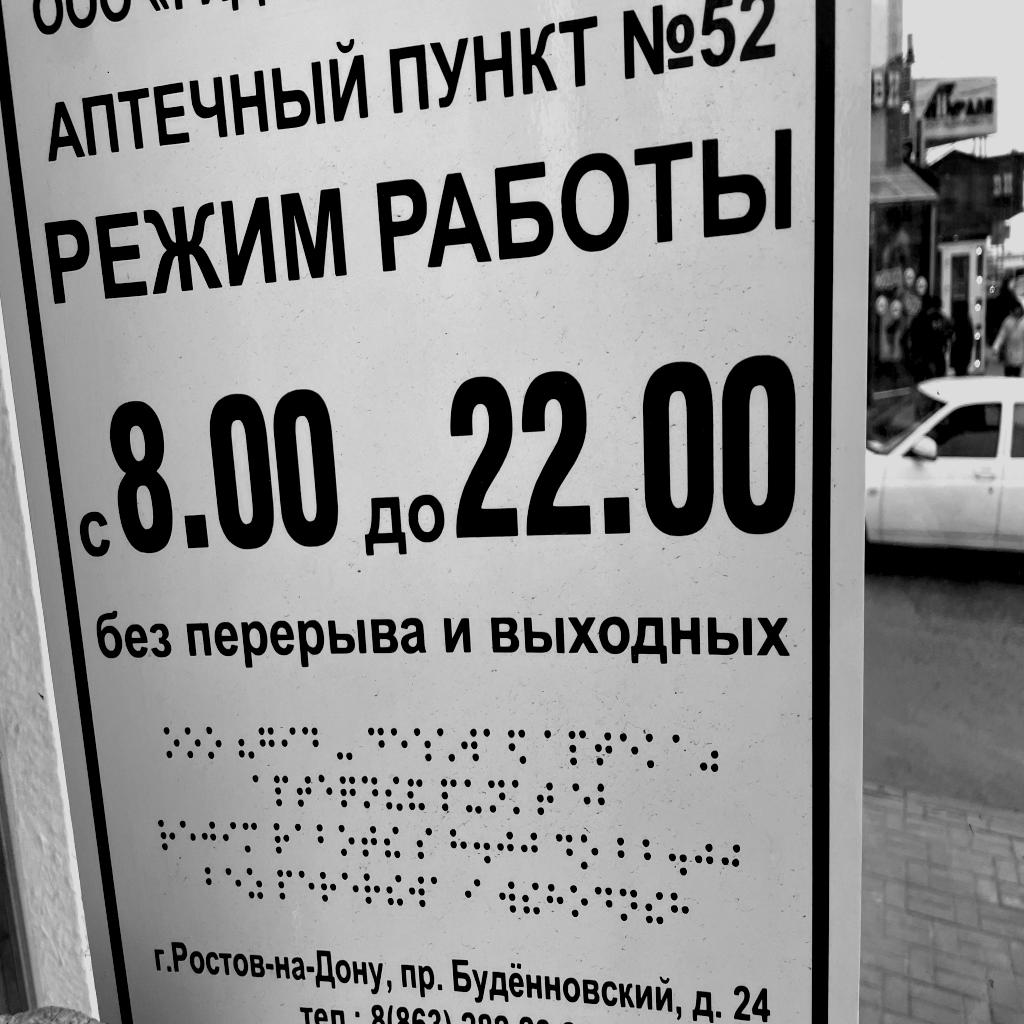_n: (618, 887, 638, 922), (487, 780, 506, 814), (361, 775, 379, 809)
_y: (464, 777, 482, 814)
a: (672, 734, 691, 770), (483, 728, 501, 762), (543, 729, 560, 764), (430, 875, 448, 908), (294, 822, 310, 856), (253, 774, 269, 806)
b: (315, 823, 332, 857), (204, 864, 220, 898)
ch: (339, 775, 356, 809)
d: (594, 886, 614, 919), (556, 832, 574, 867), (368, 726, 386, 760), (302, 726, 319, 758)
defis: (336, 729, 353, 761)
e: (619, 732, 639, 768), (390, 726, 409, 761), (341, 871, 359, 906), (298, 868, 315, 903), (225, 865, 242, 899), (180, 819, 196, 854), (318, 774, 334, 807)
g: (258, 727, 275, 759)
gh: (201, 820, 217, 852)
i: (464, 878, 482, 914), (280, 726, 297, 758), (222, 821, 237, 853)
iKratkoe: (407, 778, 425, 811)
ii: (643, 891, 665, 925), (385, 777, 404, 811), (522, 882, 541, 915), (386, 873, 404, 907), (384, 826, 401, 860)
k: (644, 733, 664, 769), (511, 780, 529, 816)
kavichki1: (238, 727, 254, 760)
kavichki2: (699, 737, 719, 774)
m: (242, 822, 258, 854)
o: (580, 834, 600, 870), (570, 885, 589, 919), (338, 824, 355, 858), (163, 726, 180, 759), (185, 726, 202, 759), (206, 726, 222, 760)
p: (568, 730, 588, 767), (441, 778, 459, 812), (273, 775, 290, 808), (276, 869, 293, 900)
r: (157, 819, 176, 852), (363, 871, 381, 905), (319, 870, 337, 902), (273, 822, 290, 855)
s: (416, 827, 434, 860)
sh: (414, 728, 432, 763)
t: (536, 781, 555, 815), (595, 732, 613, 766), (296, 774, 313, 808), (361, 825, 379, 857)
tochka: (668, 841, 687, 877), (473, 828, 491, 865)
v: (461, 729, 479, 763), (499, 882, 517, 915), (409, 874, 426, 908)
x: (670, 892, 690, 926), (547, 882, 565, 917)
ya: (508, 729, 527, 765)
yo: (437, 727, 455, 763)
z: (246, 867, 263, 900)
